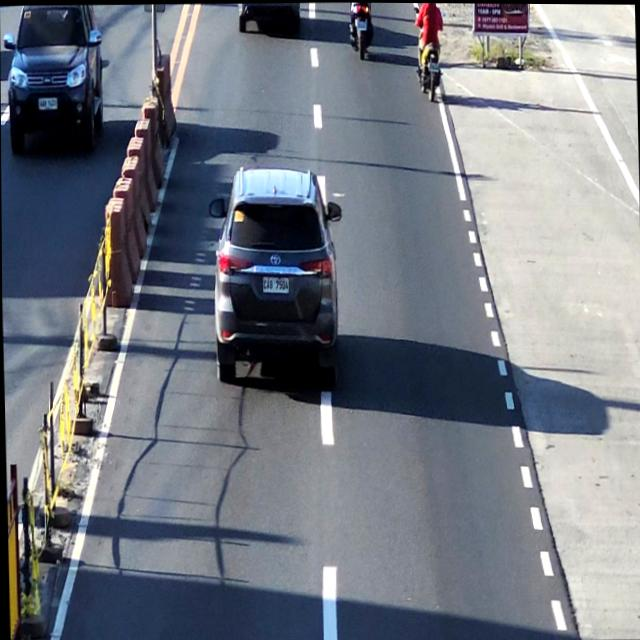Car: (213, 167, 343, 393)
License-Plate: (261, 272, 289, 297), (427, 61, 440, 72), (355, 19, 369, 28)
Motorcycle: (413, 2, 447, 98), (348, 2, 374, 58)
